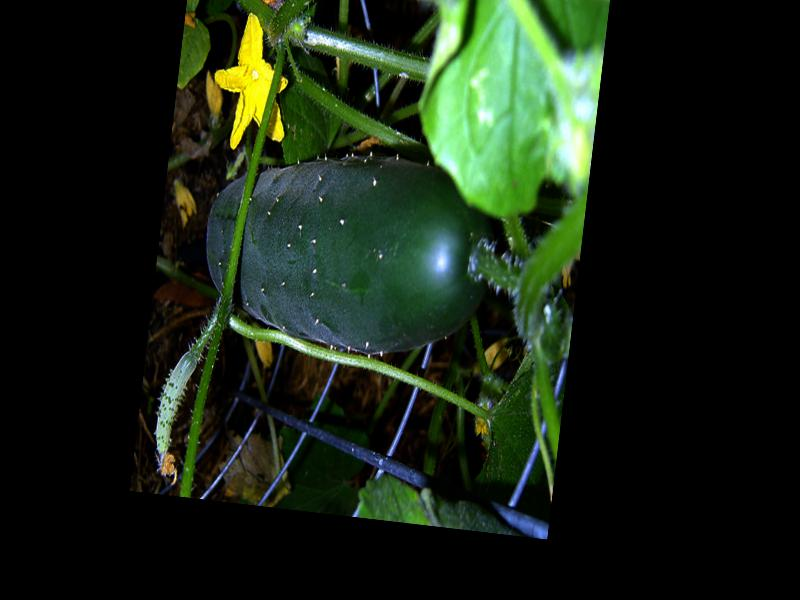Cucumber: (195, 137, 501, 369)
